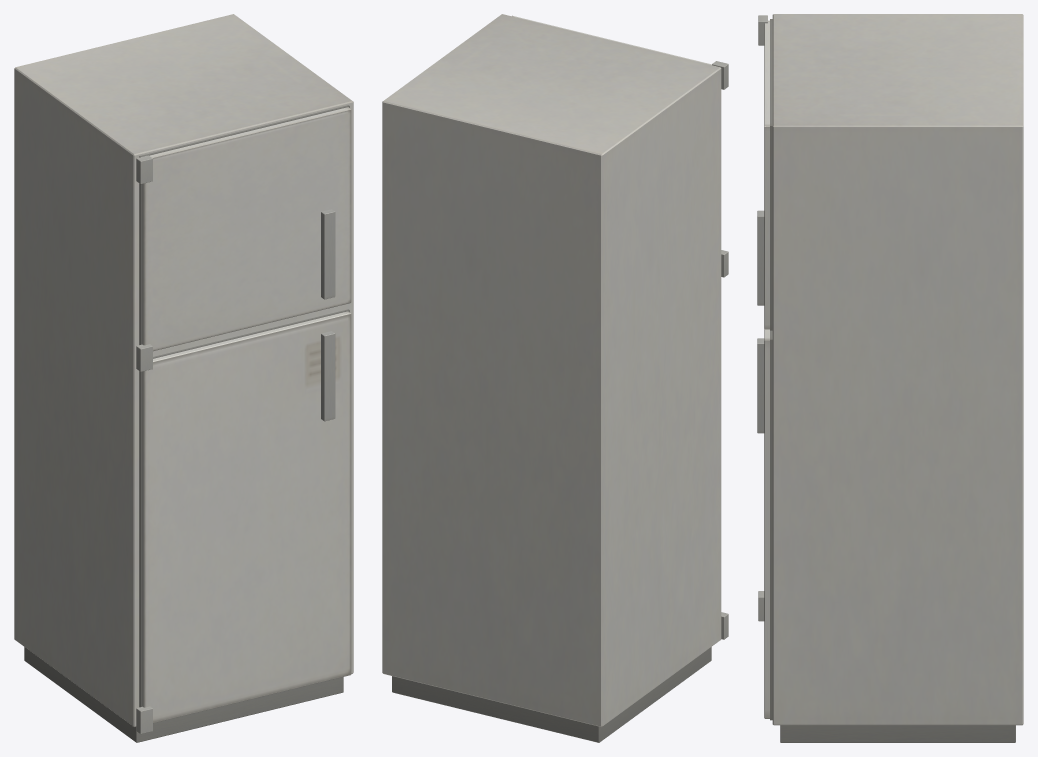
File: fridge.glb
3 renders of one model, left to right at view 1: azimuth 30°, elevation 25°; view 2: azimuth 150°, elevation 25°; view 3: azimuth 270°, elevation 25°, orthographic. The views are drawn at different scales.
Parts seen in each view (by area): view 1: core_fridge; view 2: core_fridge; view 3: core_fridge.
Part boxes in pixels (<box>): core_fridge: <box>14,14,353,742</box>; core_fridge: <box>382,14,728,742</box>; core_fridge: <box>757,14,1023,742</box>.
Bounding box in the file's own units: 0.7 × 1.8 × 0.7.
1 material, 1 textured.
